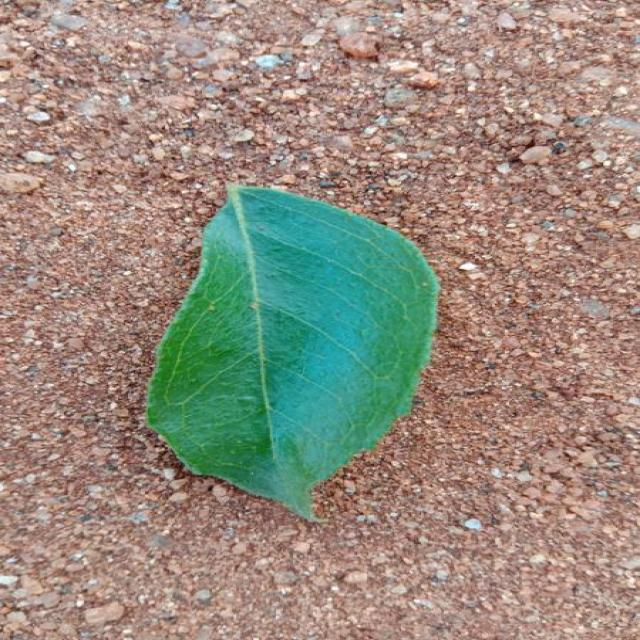curry: (147, 185, 438, 518)
